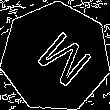M_SW: (22, 23, 89, 91)
